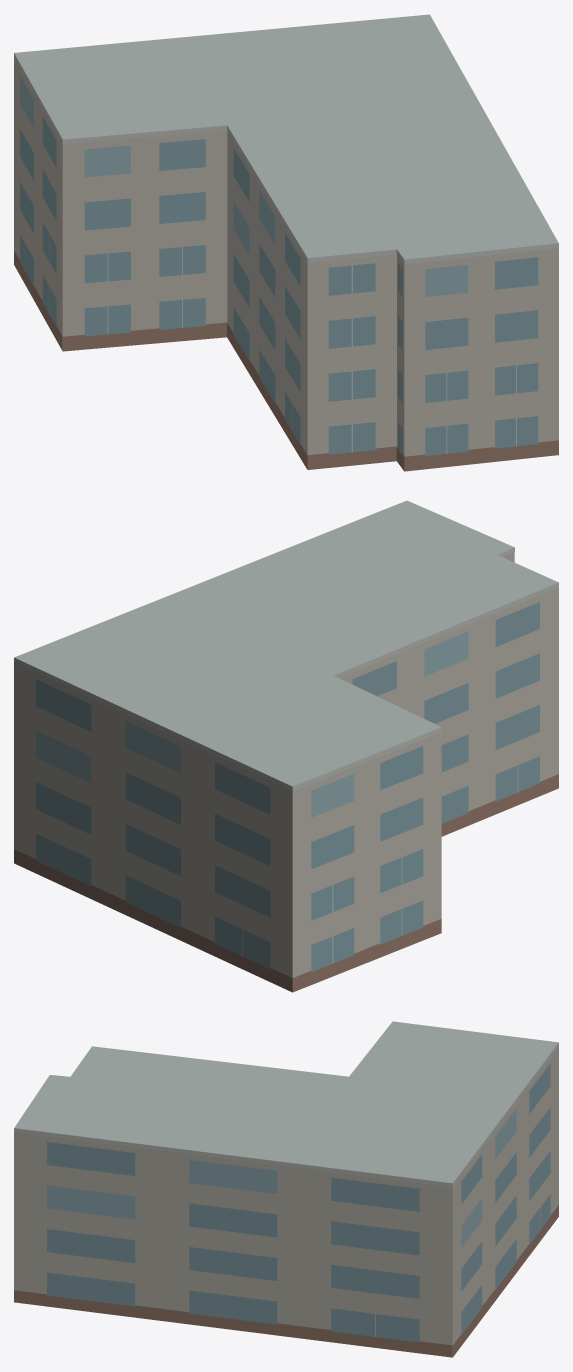
Rendered from survey-upis-33008329.glb.
3 renders of one model, top to bottom at view 1: azimuth 30°, elevation 25°; view 2: azimuth 150°, elevation 25°; view 3: azimuth 270°, elevation 25°, orthographic. The views are drawn at different scales.
Visible parts, largest first — view 1: survey-upis-33008329.tmp; view 2: survey-upis-33008329.tmp; view 3: survey-upis-33008329.tmp.
Boxes of the visible parts, <box> form: survey-upis-33008329.tmp: <box>14,14,558,471</box>; survey-upis-33008329.tmp: <box>14,500,558,992</box>; survey-upis-33008329.tmp: <box>14,1021,558,1357</box>.
Bounding box in the file's own units: 21.34 × 10.7 × 30.33.
